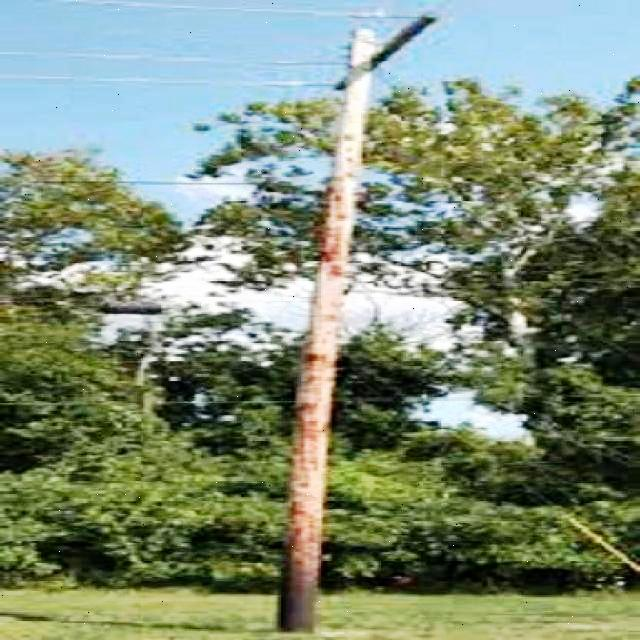poles: (280, 15, 436, 631)
wires: (9, 44, 341, 98)
